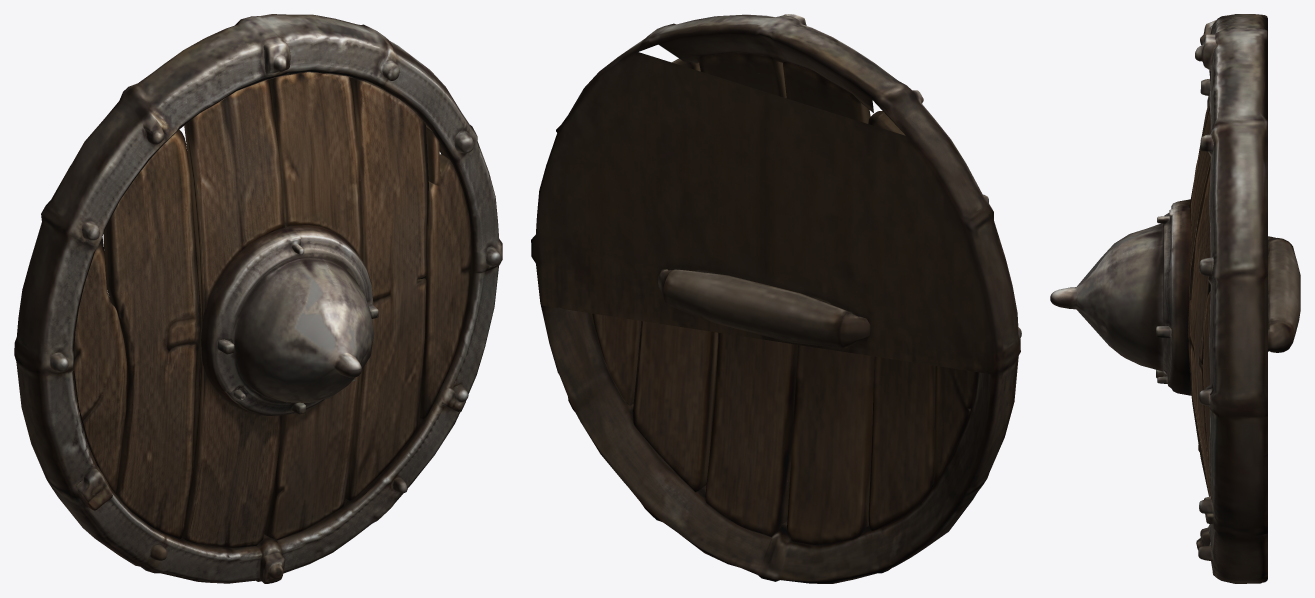
The model's file is U02_charnel_dead_shield.glb.
3 views of the same model, side by side, from view 1: azimuth 30°, elevation 25°; view 2: azimuth 150°, elevation 25°; view 3: azimuth 270°, elevation 25° (orthographic). The views are drawn at different scales.
Visible parts, largest first — view 1: tripo_3e0dacd4_12ad_4736_b7e5_2bbb8c7a1d92; view 2: tripo_3e0dacd4_12ad_4736_b7e5_2bbb8c7a1d92; view 3: tripo_3e0dacd4_12ad_4736_b7e5_2bbb8c7a1d92.
Boxes of the visible parts, x1,y1,x2,y2 form: tripo_3e0dacd4_12ad_4736_b7e5_2bbb8c7a1d92: [14, 14, 502, 583]; tripo_3e0dacd4_12ad_4736_b7e5_2bbb8c7a1d92: [531, 14, 1021, 583]; tripo_3e0dacd4_12ad_4736_b7e5_2bbb8c7a1d92: [1050, 14, 1300, 583].
Bounding box in the file's own units: 0.896 × 0.9995 × 0.4263.
1 material, 1 textured.
